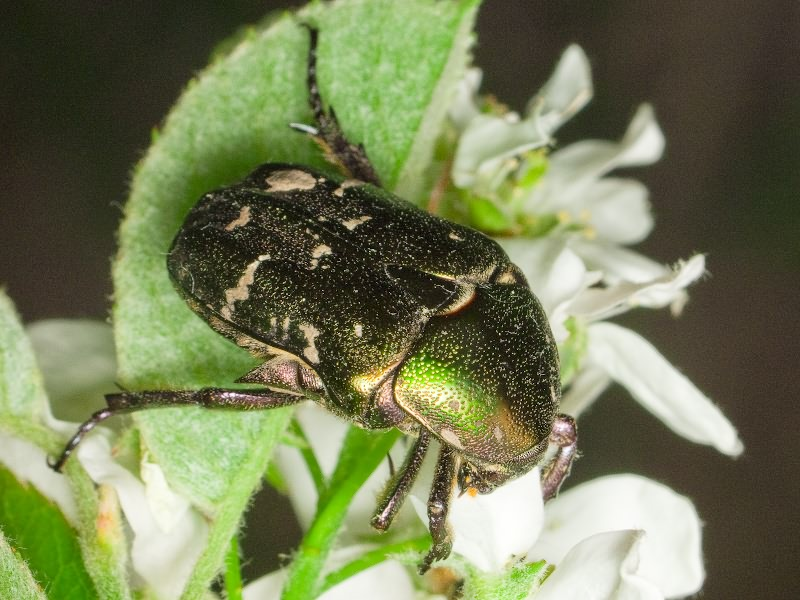Protaetia_metallica: (55, 18, 580, 572)
